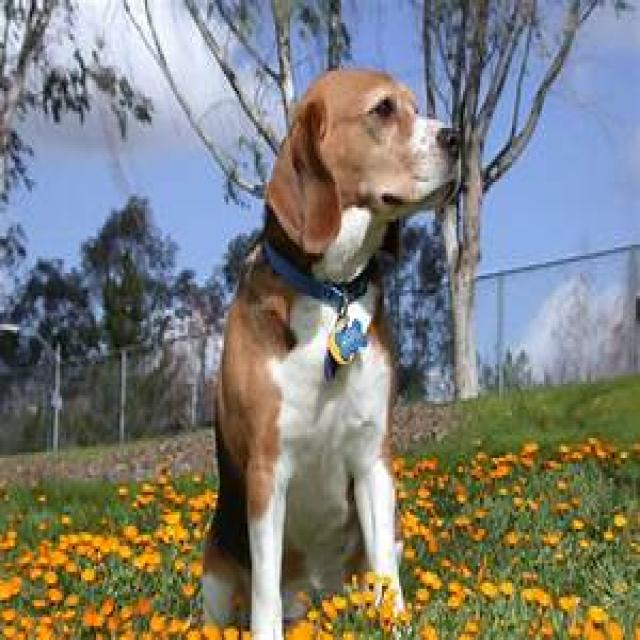dog: (201, 68, 461, 640)
